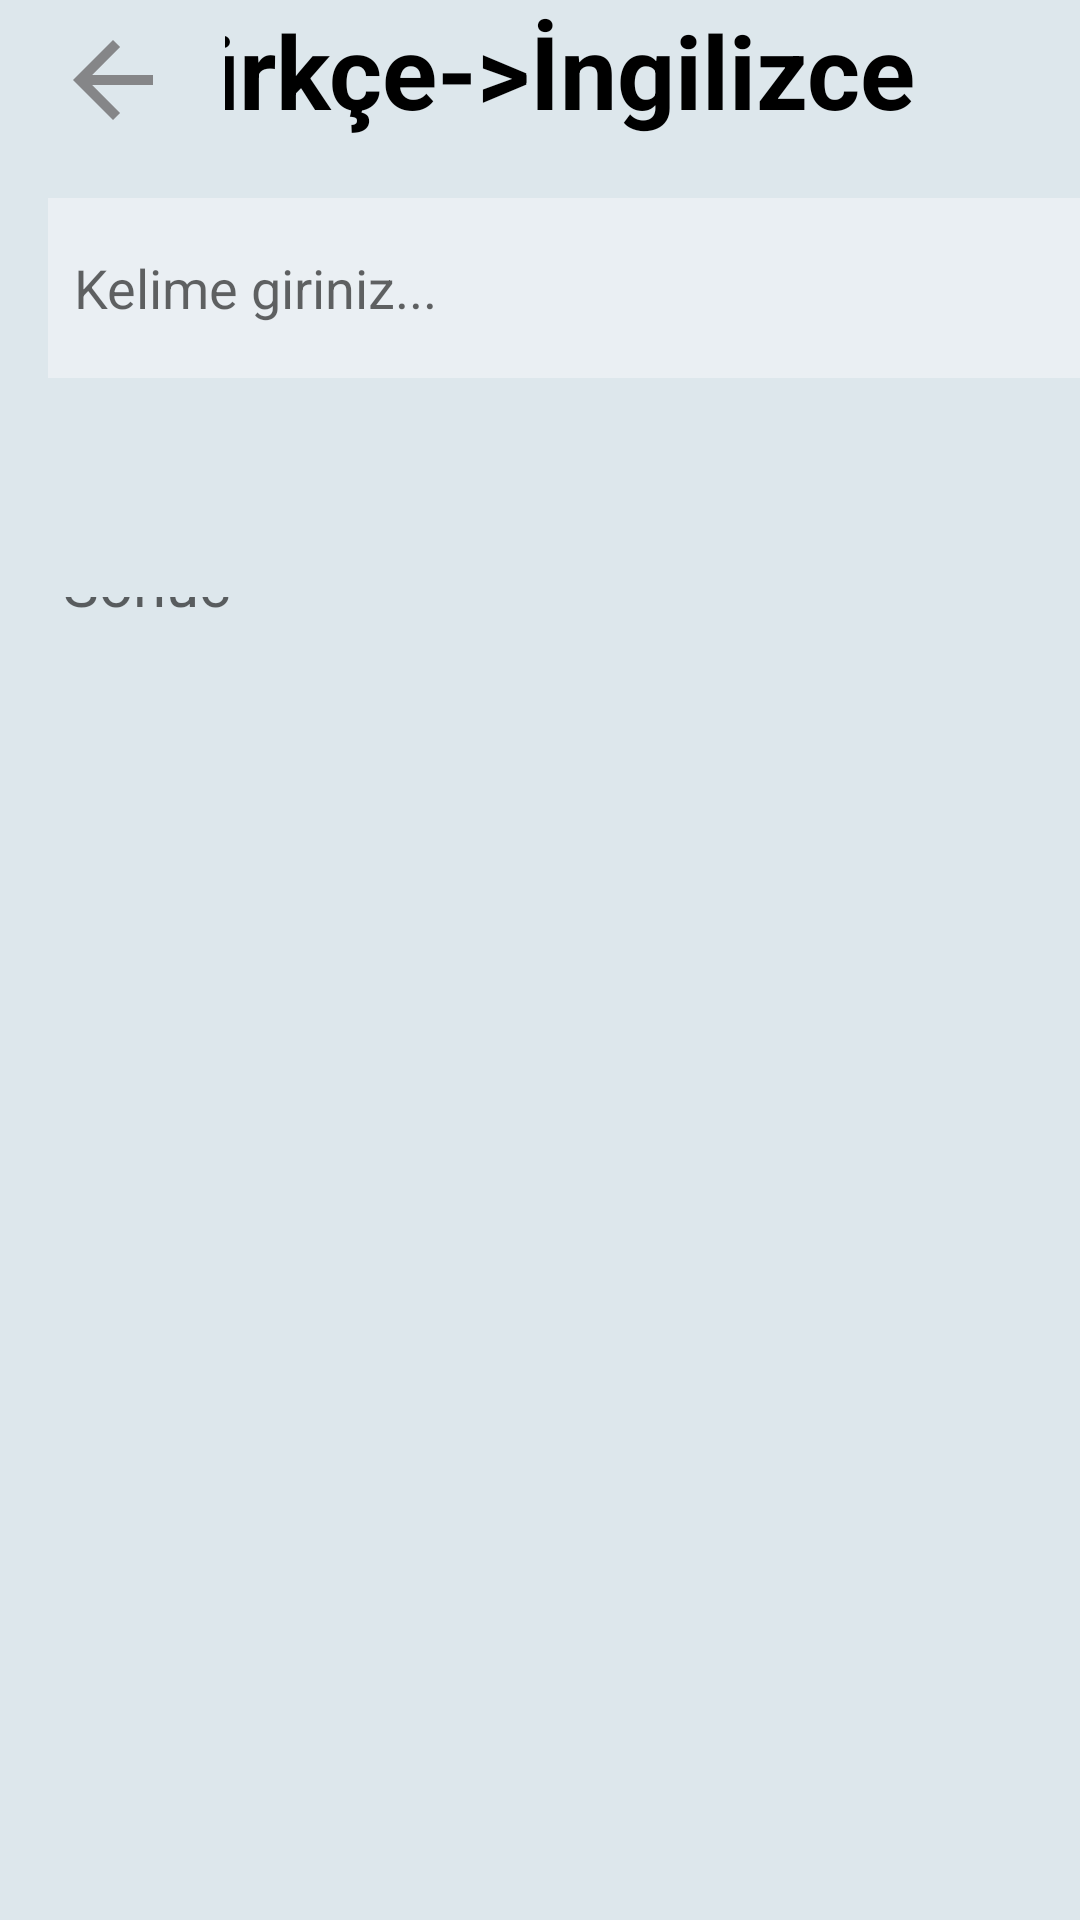

Locate icon controls on the screen. Image size 1080px×1920px, boxes as (left=x1, top=y1, right=x2, bottom=y2).
back: (left=73, top=40, right=153, bottom=120)
